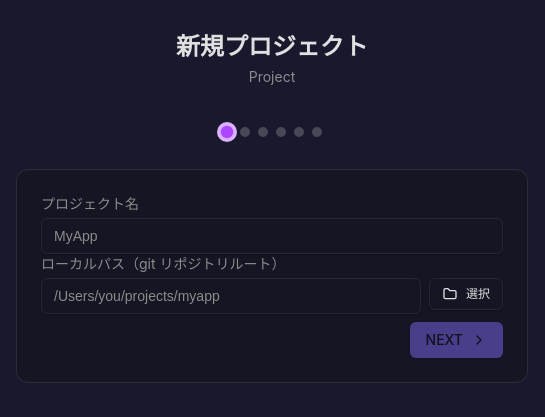
Test case: SetupScreen — ウィザードモード › Step0: createProject 失敗時にエラーが表示される
This screenshot has width=545, height=417.
In the field with placeholder "MyApp": (272, 236) [41,218,503,254], type "TestApp"
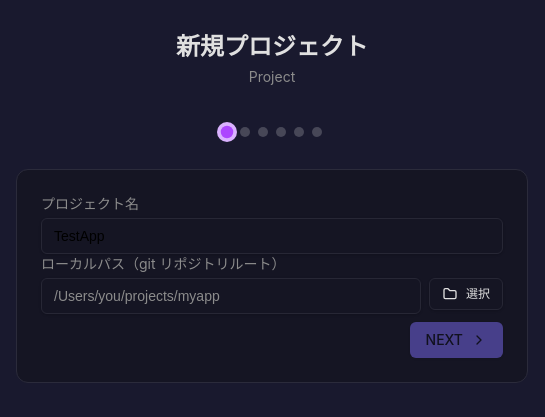
In the field with placeholder "/Users/you/projects/myapp": (231, 296) [41,278,421,314], type "/bad/path"
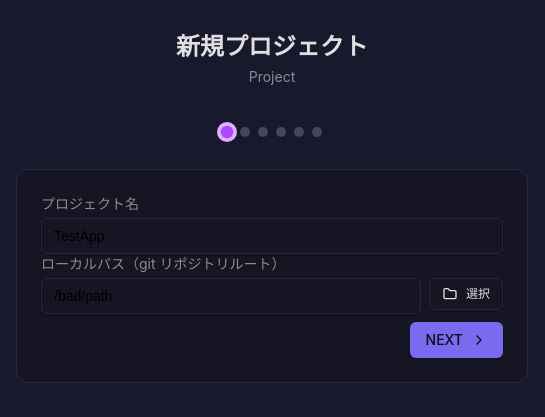
Click the button "NEXT": (456, 340) [410,322,503,358]
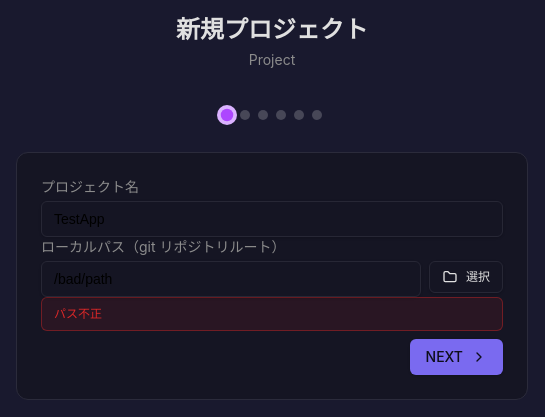
Now the text "パス不正" is shown, box [41,297,503,331]
